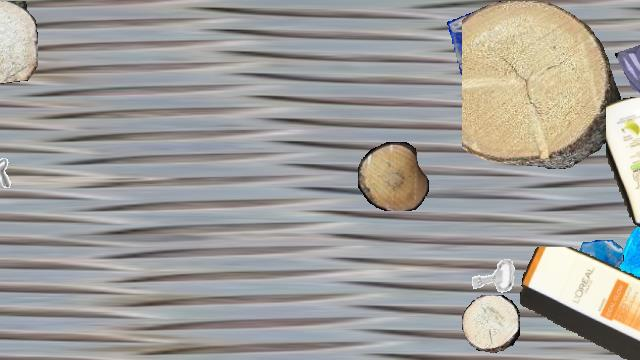glass: (447, 1, 539, 93), (600, 225, 640, 319), (564, 240, 624, 300), (614, 38, 640, 108)
metal: (519, 93, 577, 151), (466, 248, 522, 304), (0, 153, 13, 199)
plastic: (520, 247, 640, 359), (606, 97, 640, 241), (0, 1, 32, 101)
wood: (462, 1, 620, 169), (358, 142, 428, 210), (462, 295, 520, 353), (0, 1, 37, 83)
